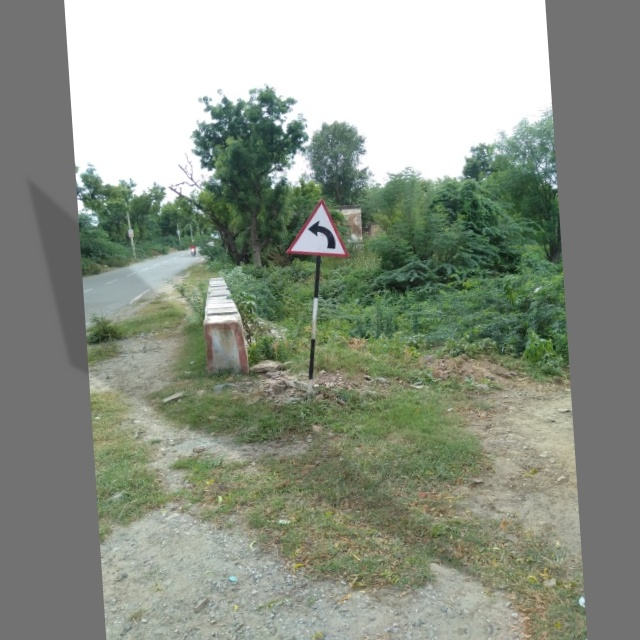Left_Hand_Curve: (281, 196, 355, 268)
